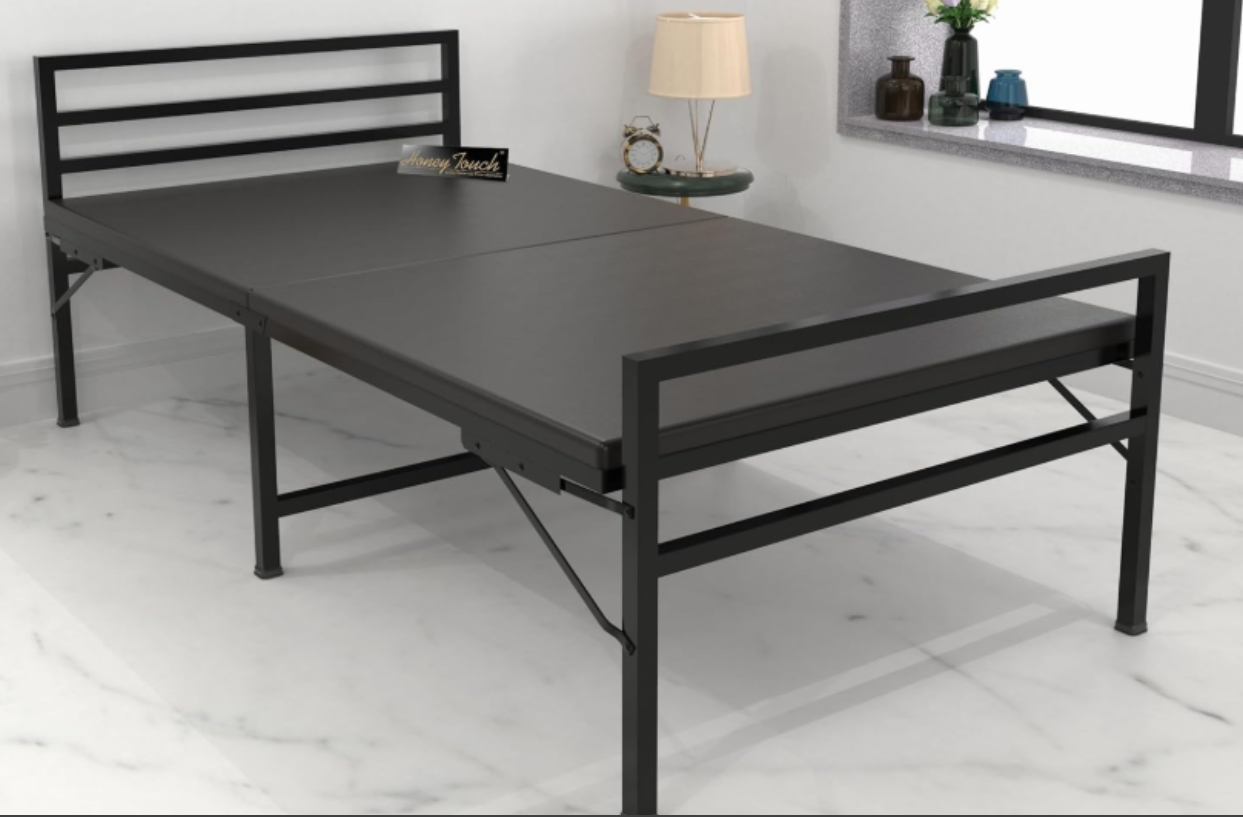cot: (29, 31, 1166, 817)
